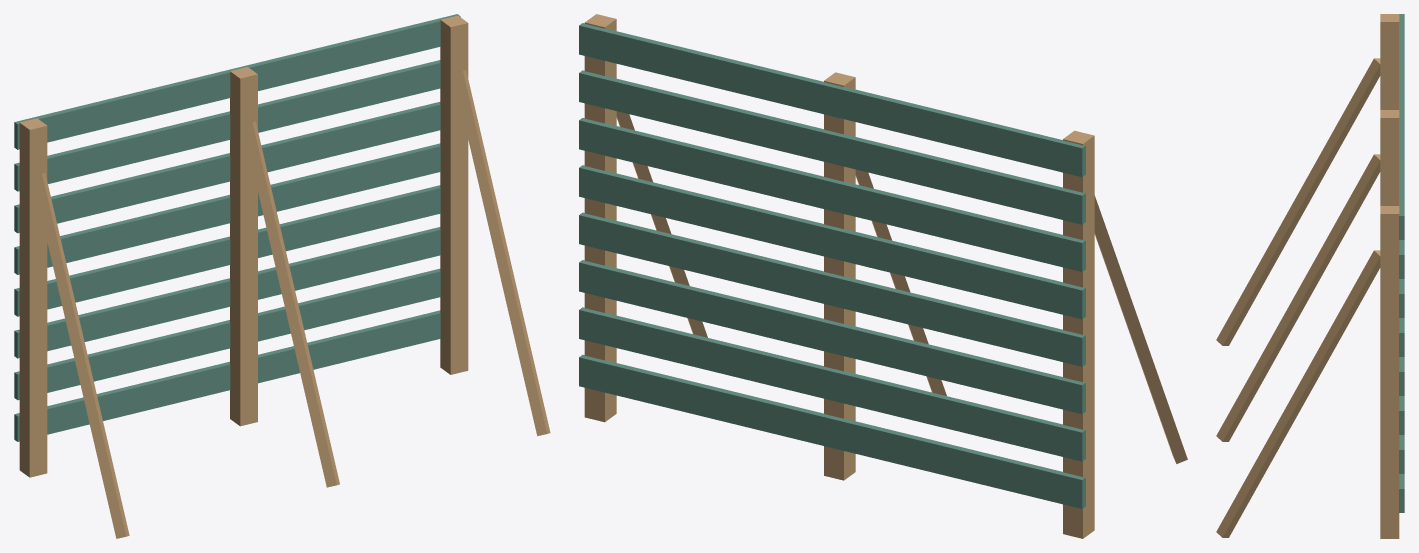
Rendered from windfence.glb.
The picture shows the model from 3 angles, left to right: view 1: azimuth 30°, elevation 25°; view 2: azimuth 150°, elevation 25°; view 3: azimuth 270°, elevation 25°; orthographic projection. The views are drawn at different scales.
Visible parts, largest first — view 1: wind-fence; view 2: wind-fence; view 3: wind-fence.
Boxes of the visible parts, x1,y1,x2,y2 form: wind-fence: (14, 14, 550, 538); wind-fence: (579, 14, 1187, 538); wind-fence: (1216, 14, 1404, 538).
Bounding box in the file's own units: 4 × 3.03 × 1.58.
